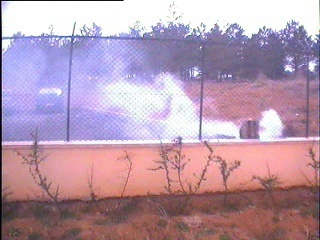smoke: (98, 62, 286, 138)
